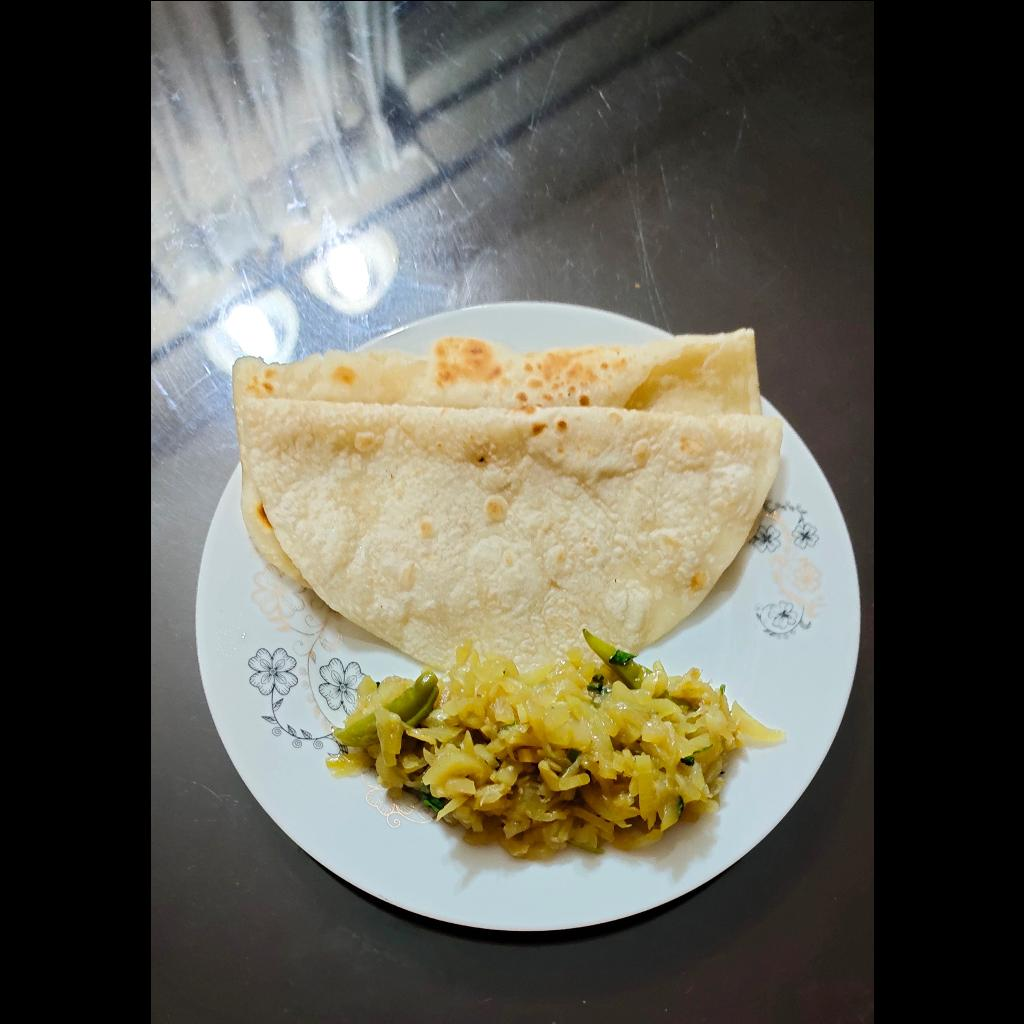papaya: (328, 650, 787, 862)
ruti: (228, 327, 783, 666)
